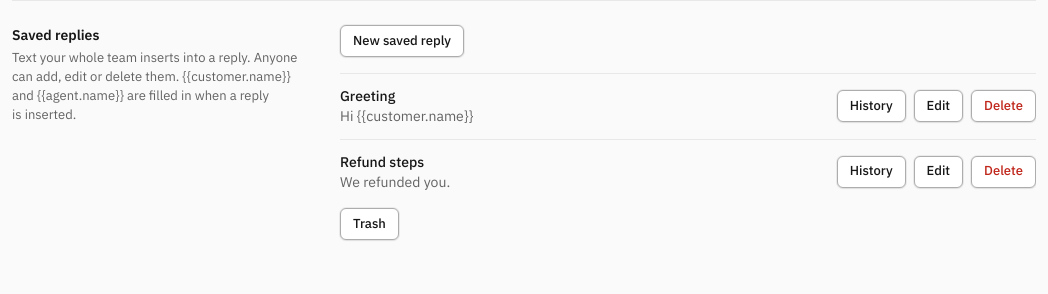
Test: a failed delete says so
Click the button with aria-label "Delete Greeting": (1004, 106) [971,90,1036,122]
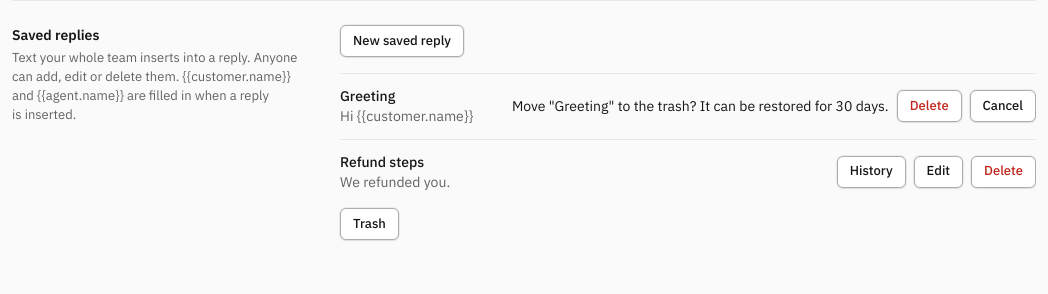
Click the button "Delete" in the row of "Hi {{customer.name}}": (929, 106) [897,90,962,122]
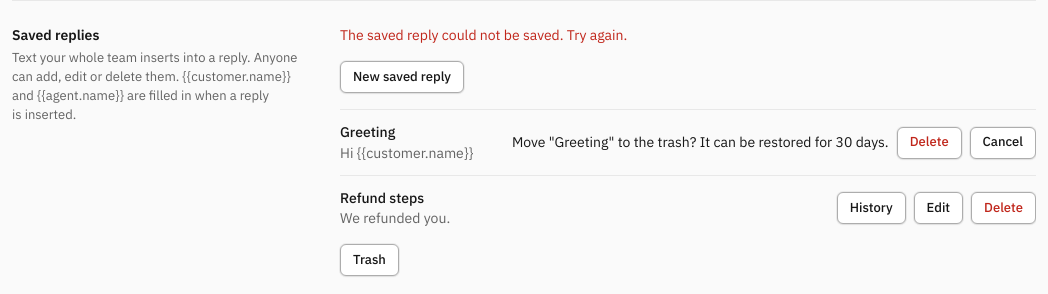
Check: the message shows "could not be saved", box [340,26,627,44]
